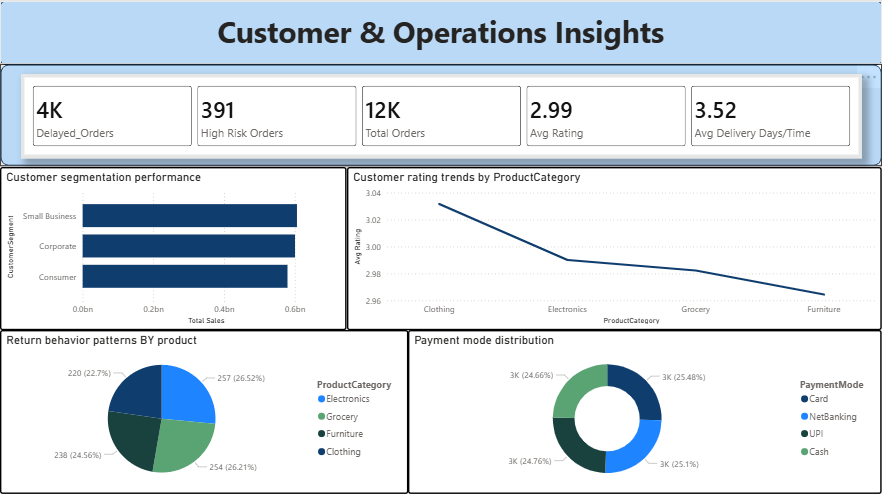

What the dashboard file says about the page in this screenshot:
{"tool":"powerbi","page":{"name":"Customer & Operations Insights","canvas":[1280,720],"ordinal":1},"visuals":[{"type":"shape","box":[3.6,9.7,1270.4,91.7],"z":0},{"type":"textbox","box":[302.8,20.5,673.2,70],"z":1000},{"type":"shape","box":[4.8,101.3,1270.4,147.2],"z":2000},{"type":"cardVisual","fields":{"Data":["measure.Delayed_Orders","measure.High Risk Orders","measure.Total Orders","measure.Avg Rating","measure.Avg Delivery Days/Time"]},"box":[35,114.6,1211.3,121.9],"z":3000},{"type":"barChart","title":"Customer segmentation performance","fields":{"Category":["sales.CustomerSegment"],"Y":["measure.Total Sales"]},"box":[4.8,248.5,499.5,235.3],"z":4000},{"type":"lineChart","title":"Customer rating trends by ProductCategory","fields":{"Y":["measure.Avg Rating"],"Category":["sales.ProductCategory"]},"box":[504.3,248.5,769.7,235.3],"z":5000},{"type":"donutChart","title":"Payment mode distribution","fields":{"Category":["sales.PaymentMode"],"Y":["measure.Total Orders"]},"box":[592.4,483.8,681.6,236.5],"z":6000},{"type":"pieChart","title":"Return behavior patterns BY product","fields":{"Category":["sales.ProductCategory"],"Y":["measure.Total Returns"]},"box":[4.8,483.8,587.5,236.5],"z":7000}]}

Visuals, with their boxes in screenshot pixels (x1, y1, x2, y2), scaled from the page's 1280x720 canvas onto the 882x494 screenshot:
shape: (left=2, top=7, right=878, bottom=70)
textbox: (left=209, top=14, right=673, bottom=62)
shape: (left=3, top=70, right=879, bottom=170)
cardVisual - measure.Delayed_Orders x measure.High Risk Orders: (left=24, top=79, right=859, bottom=162)
"Customer segmentation performance" barChart: (left=3, top=170, right=347, bottom=332)
"Customer rating trends by ProductCategory" lineChart: (left=347, top=170, right=878, bottom=332)
"Payment mode distribution" donutChart: (left=408, top=332, right=878, bottom=493)
"Return behavior patterns BY product" pieChart: (left=3, top=332, right=408, bottom=493)
